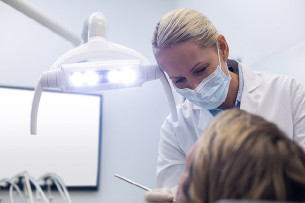face_mask: (161, 42, 228, 111)
